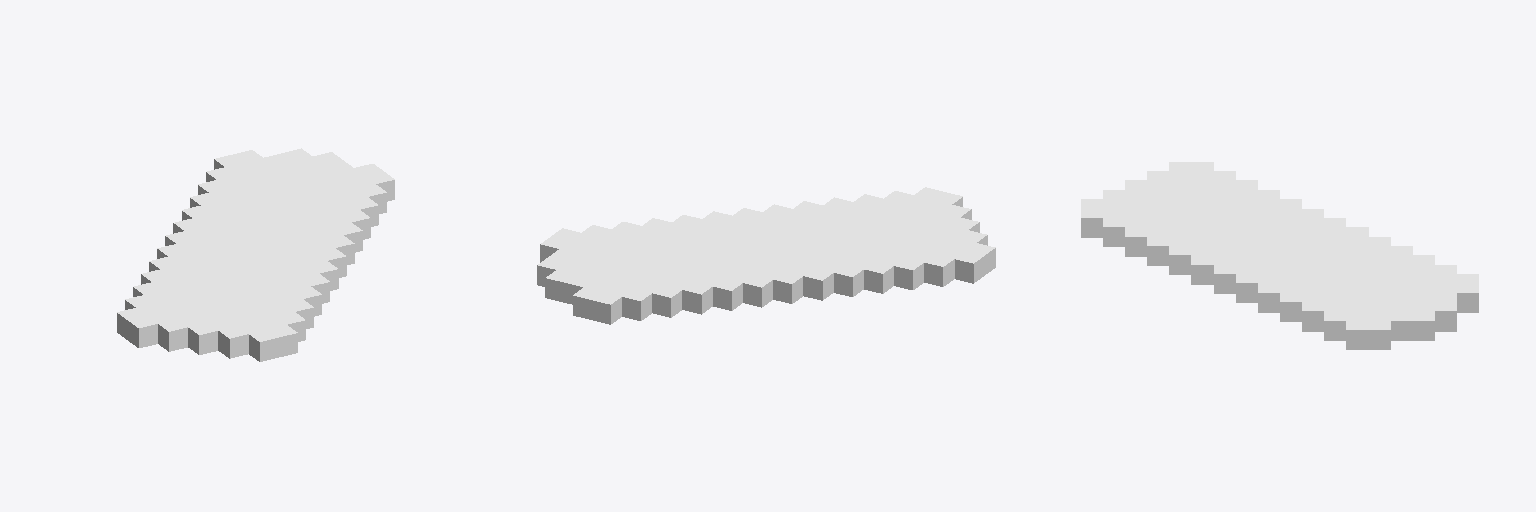
The model's file is character_bacon.obj.
3 renders of one model, left to right at view 1: azimuth 30°, elevation 25°; view 2: azimuth 150°, elevation 25°; view 3: azimuth 270°, elevation 25°, orthographic.
Size of the model in its own units: 18 by 1 by 18.